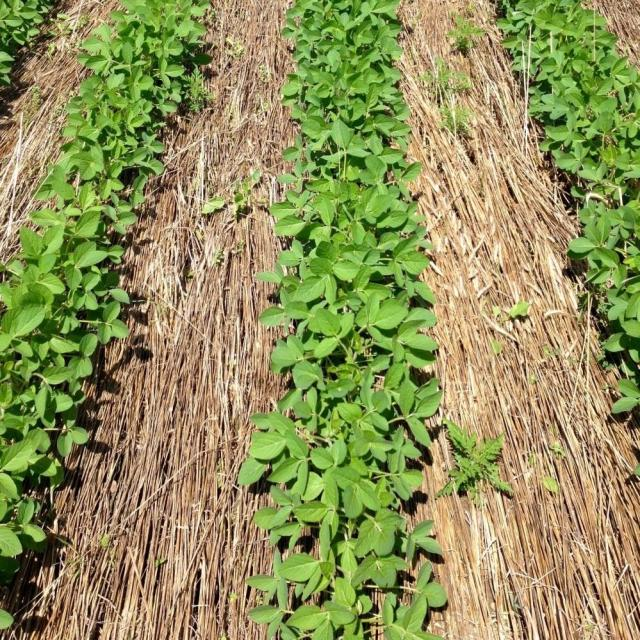row: (0, 0, 294, 640), (402, 0, 640, 640), (0, 0, 113, 286), (586, 0, 640, 83)
